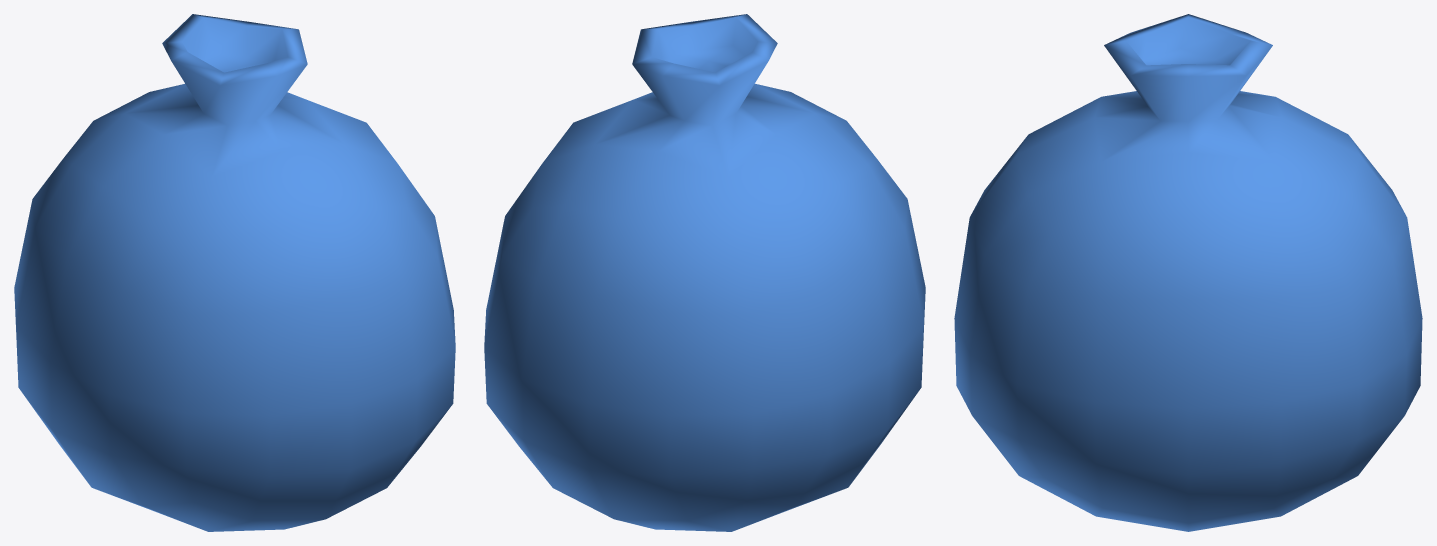
Rendered from water_balloon.fbx.
3 views of the same model, side by side, from view 1: azimuth 30°, elevation 25°; view 2: azimuth 150°, elevation 25°; view 3: azimuth 270°, elevation 25° (orthographic).
Parts seen in each view (by area): view 1: water ballon; view 2: water ballon; view 3: water ballon.
Boxes of the visible parts, <box> form: water ballon: <box>14,14,455,531</box>; water ballon: <box>484,14,925,531</box>; water ballon: <box>954,14,1422,531</box>.
Bounding box in the file's own units: 167 × 201 × 183.
